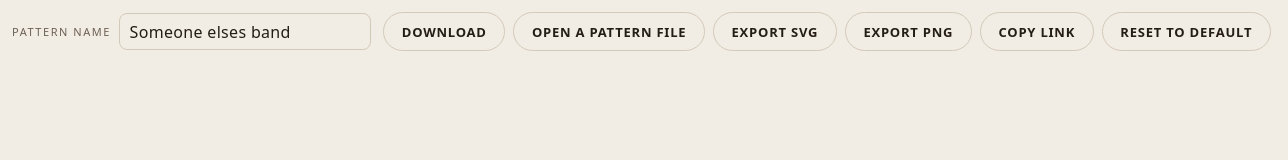
Scenario: reset to the default band › asks before discarding, and leaves the band alone if you decline
The image size is (1288, 160).
Click the button "Reset to default".
click(1186, 32)  # box x1=1102 y1=12 x2=1271 y2=51
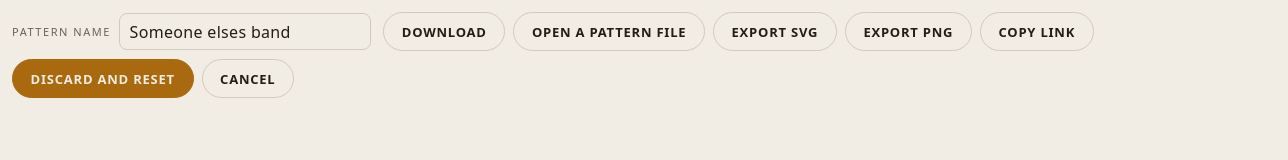
Click the button "Cancel".
click(248, 79)  # box x1=202 y1=59 x2=294 y2=98
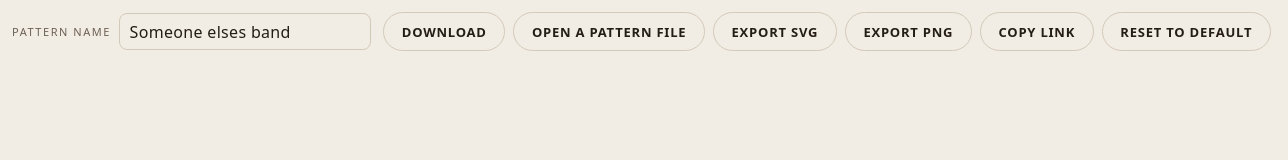
expect the button "Discard" is gone: met
